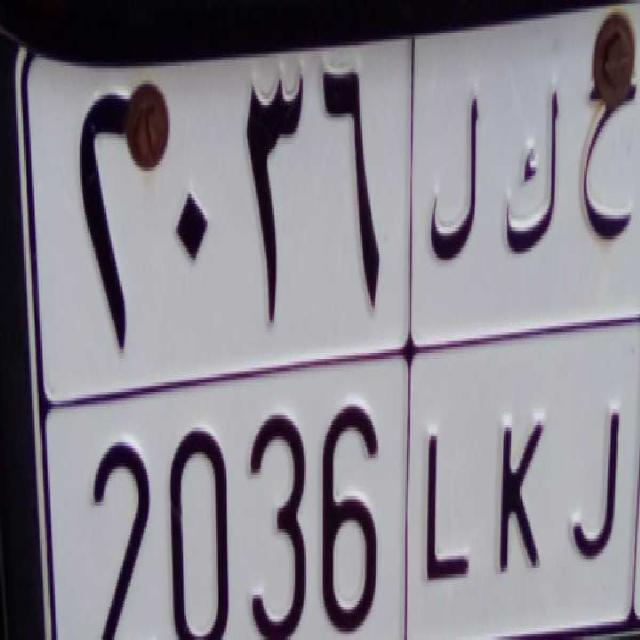license_plate: (71, 352, 638, 640)
